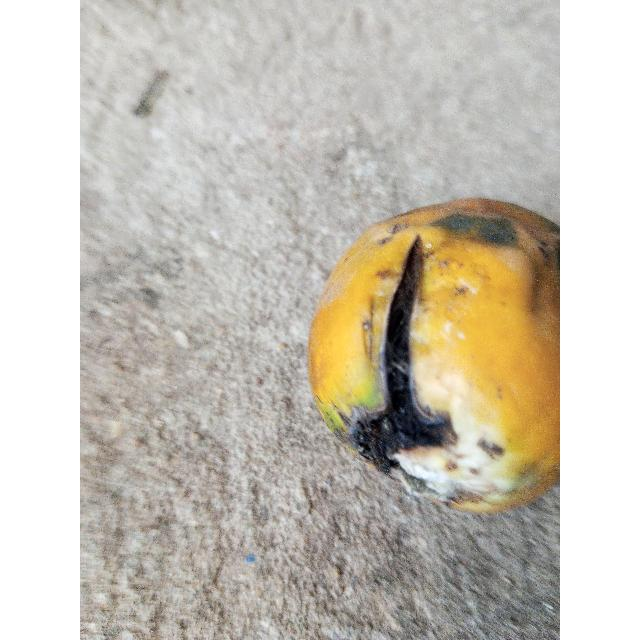damaged: (308, 198, 560, 517)
